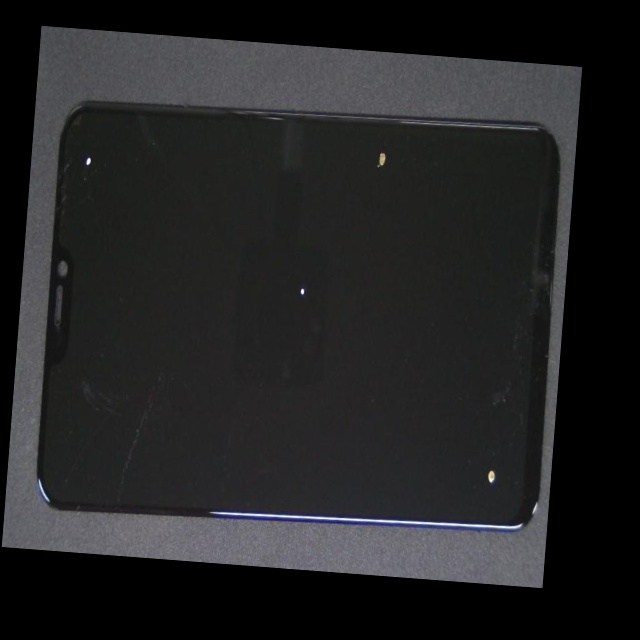stain: (237, 213, 569, 588), (164, 114, 446, 396), (205, 56, 552, 218), (69, 64, 121, 215)
